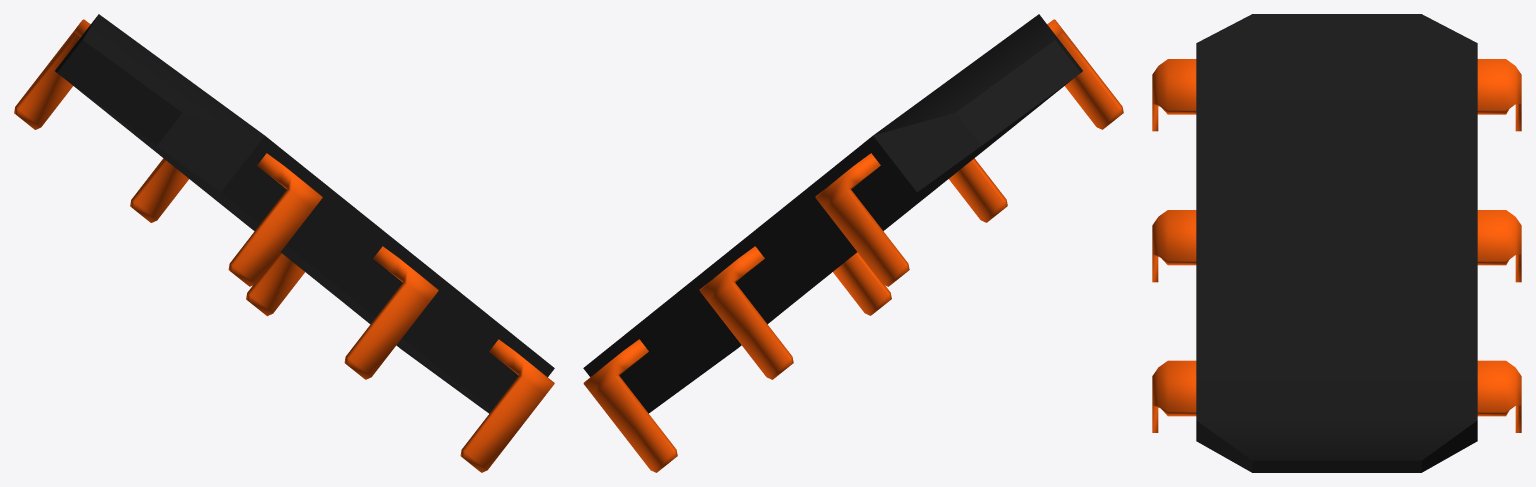
File: 3D_COLLECT_001.FBX
3 renders of one model, left to right at view 1: azimuth 30°, elevation 25°; view 2: azimuth 150°, elevation 25°; view 3: azimuth 270°, elevation 25°, orthographic. The views are drawn at different scales.
Parts seen in each view (by area): view 1: Microchip; view 2: Microchip; view 3: Microchip.
Boxes of the visible parts, x1=… form: Microchip: x1=14, y1=14, x2=554, y2=472; Microchip: x1=583, y1=14, x2=1123, y2=472; Microchip: x1=1152, y1=14, x2=1521, y2=472.
Bounding box in the file's own units: 2.89 × 2.89 × 2.95.
